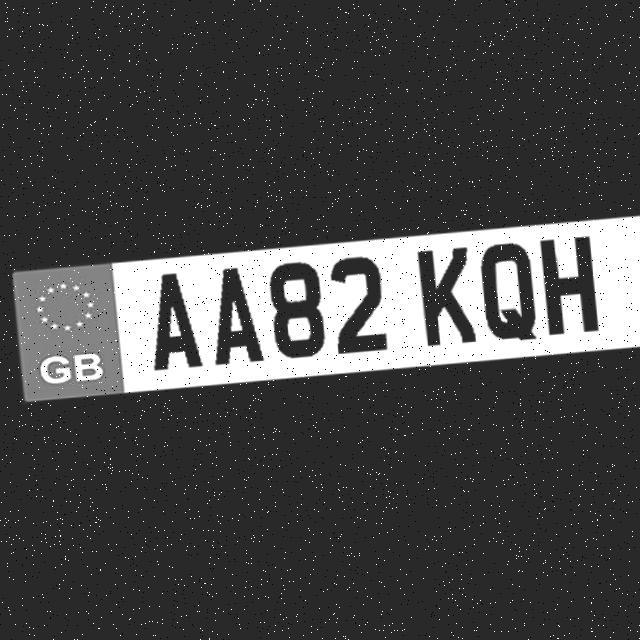license-plates: (13, 215, 640, 401)
